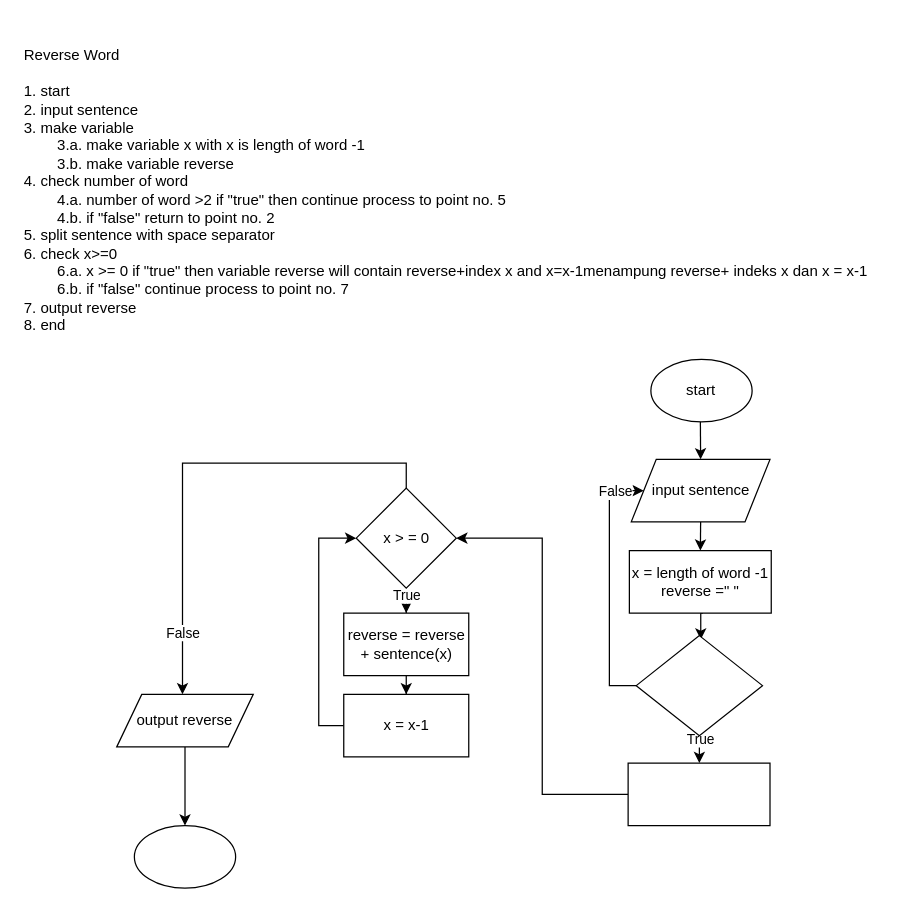
This 905x910 diagram has some shape labels left out. The shapes that lost their labels are listed below. From the top down, each one's centre as x and y in pixels, then its label:
the point at 698,685: number of word >2
the point at 698,794: split sentence with space separator
the point at 184,856: end
